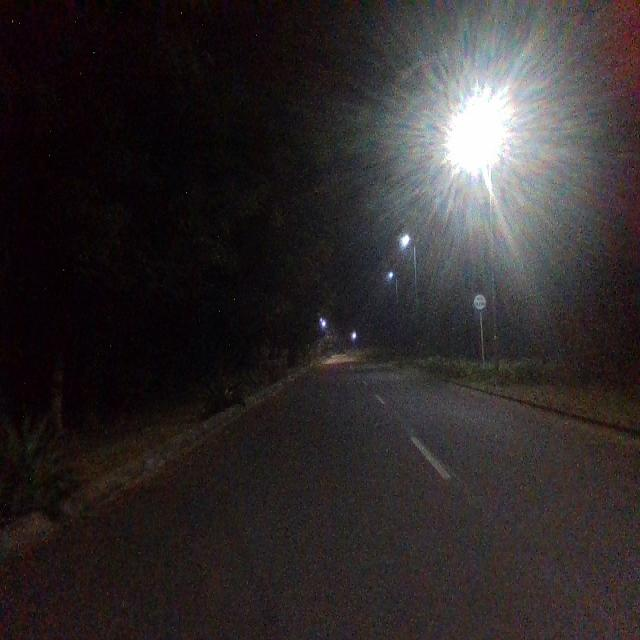lane: (1, 367, 573, 640)
